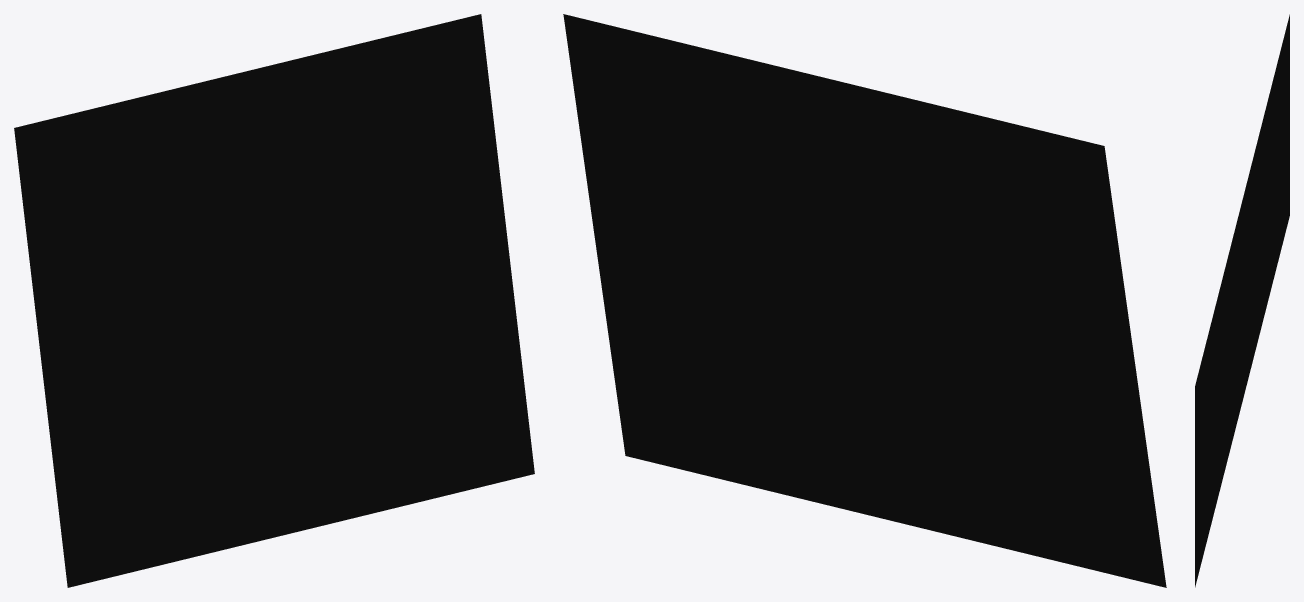
The model's file is rec.glb.
3 renders of one model, left to right at view 1: azimuth 30°, elevation 25°; view 2: azimuth 150°, elevation 25°; view 3: azimuth 270°, elevation 25°, orthographic. The views are drawn at different scales.
Parts seen in each view (by area): view 1: rec; view 2: rec; view 3: rec.
Boxes of the visible parts, x1,y1,x2,y2 form: rec: (14, 14, 534, 587); rec: (563, 14, 1166, 587); rec: (1195, 14, 1289, 587).
Bounding box in the file's own units: 6581 × 5664 × 1308.
Materials: 1 (1 with a texture image).
